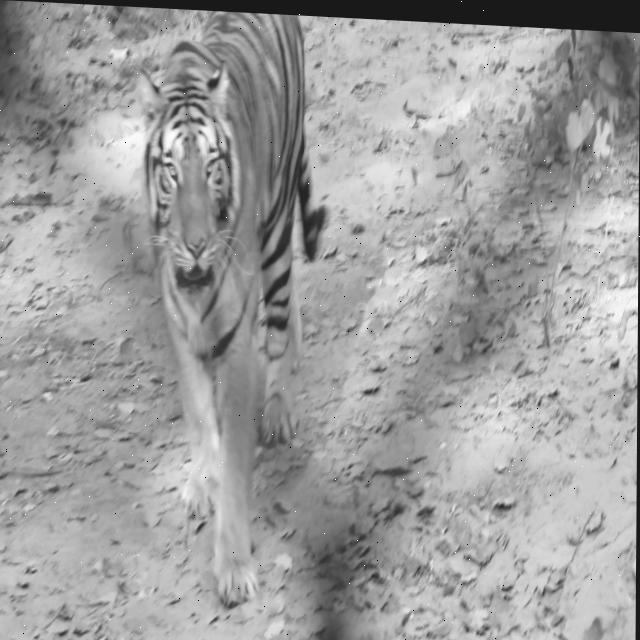Tiger: (131, 7, 328, 612)
